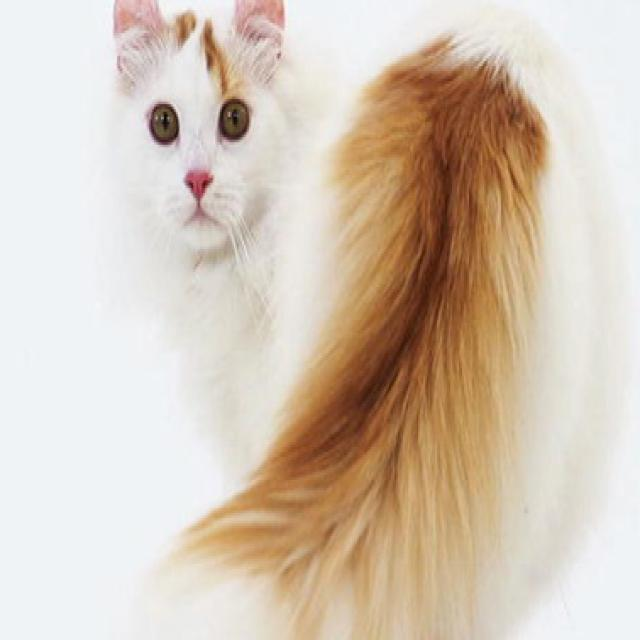American Curl: (98, 0, 637, 640)
